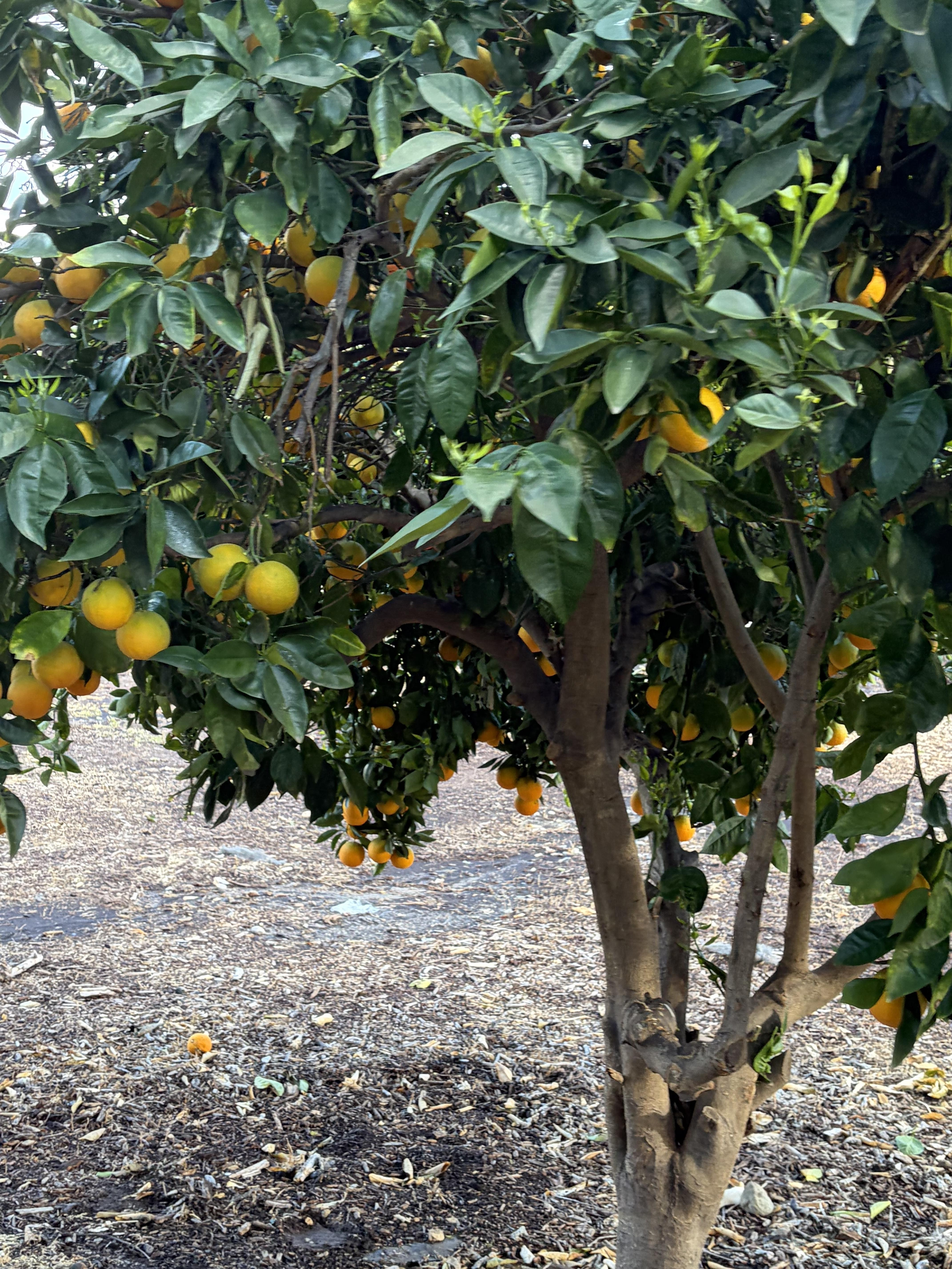orange: (657, 386, 726, 452), (868, 967, 927, 1029), (196, 543, 256, 601), (244, 559, 299, 615), (14, 299, 73, 351), (305, 256, 361, 308), (24, 556, 82, 606), (873, 871, 930, 921), (590, 14, 646, 64), (82, 578, 135, 630), (55, 256, 110, 305), (116, 611, 170, 659), (33, 642, 84, 689), (612, 394, 663, 440), (836, 262, 886, 308), (145, 176, 196, 219), (8, 673, 53, 720), (150, 244, 207, 281), (180, 229, 227, 272), (0, 255, 40, 300), (325, 540, 368, 581), (458, 39, 496, 85), (286, 214, 318, 267), (265, 269, 309, 307), (388, 180, 418, 232), (404, 221, 443, 257), (348, 396, 385, 431), (462, 227, 490, 269), (259, 372, 285, 415), (269, 389, 303, 421), (758, 643, 787, 680), (829, 634, 858, 670), (58, 102, 95, 129), (66, 670, 100, 697), (624, 138, 648, 173), (305, 365, 343, 387), (366, 344, 400, 368), (821, 717, 849, 746), (347, 457, 377, 484), (174, 333, 208, 356), (77, 420, 103, 450), (338, 839, 365, 867), (673, 713, 700, 741), (343, 796, 369, 825), (386, 265, 415, 290), (307, 467, 337, 491), (303, 526, 326, 557), (438, 634, 463, 662), (730, 705, 755, 732), (316, 519, 349, 539), (516, 777, 542, 802), (368, 837, 393, 863), (371, 705, 396, 730), (250, 236, 281, 256), (658, 639, 680, 667), (475, 719, 500, 743), (518, 627, 542, 652), (646, 681, 667, 709), (817, 464, 834, 498), (496, 765, 519, 790), (398, 571, 424, 593), (674, 814, 694, 842), (391, 845, 414, 869), (514, 795, 539, 816), (99, 547, 125, 567), (11, 660, 32, 684), (182, 560, 197, 593), (846, 633, 875, 650), (537, 652, 557, 676), (344, 449, 370, 466), (371, 594, 394, 612), (243, 33, 261, 54), (376, 800, 399, 815), (458, 642, 475, 662), (630, 791, 643, 816), (347, 825, 368, 840), (347, 687, 362, 708), (155, 0, 189, 9), (735, 795, 750, 815), (815, 747, 828, 768), (439, 763, 454, 781), (284, 437, 300, 453), (402, 566, 418, 579), (359, 654, 372, 667), (261, 170, 270, 186), (829, 664, 839, 677)
